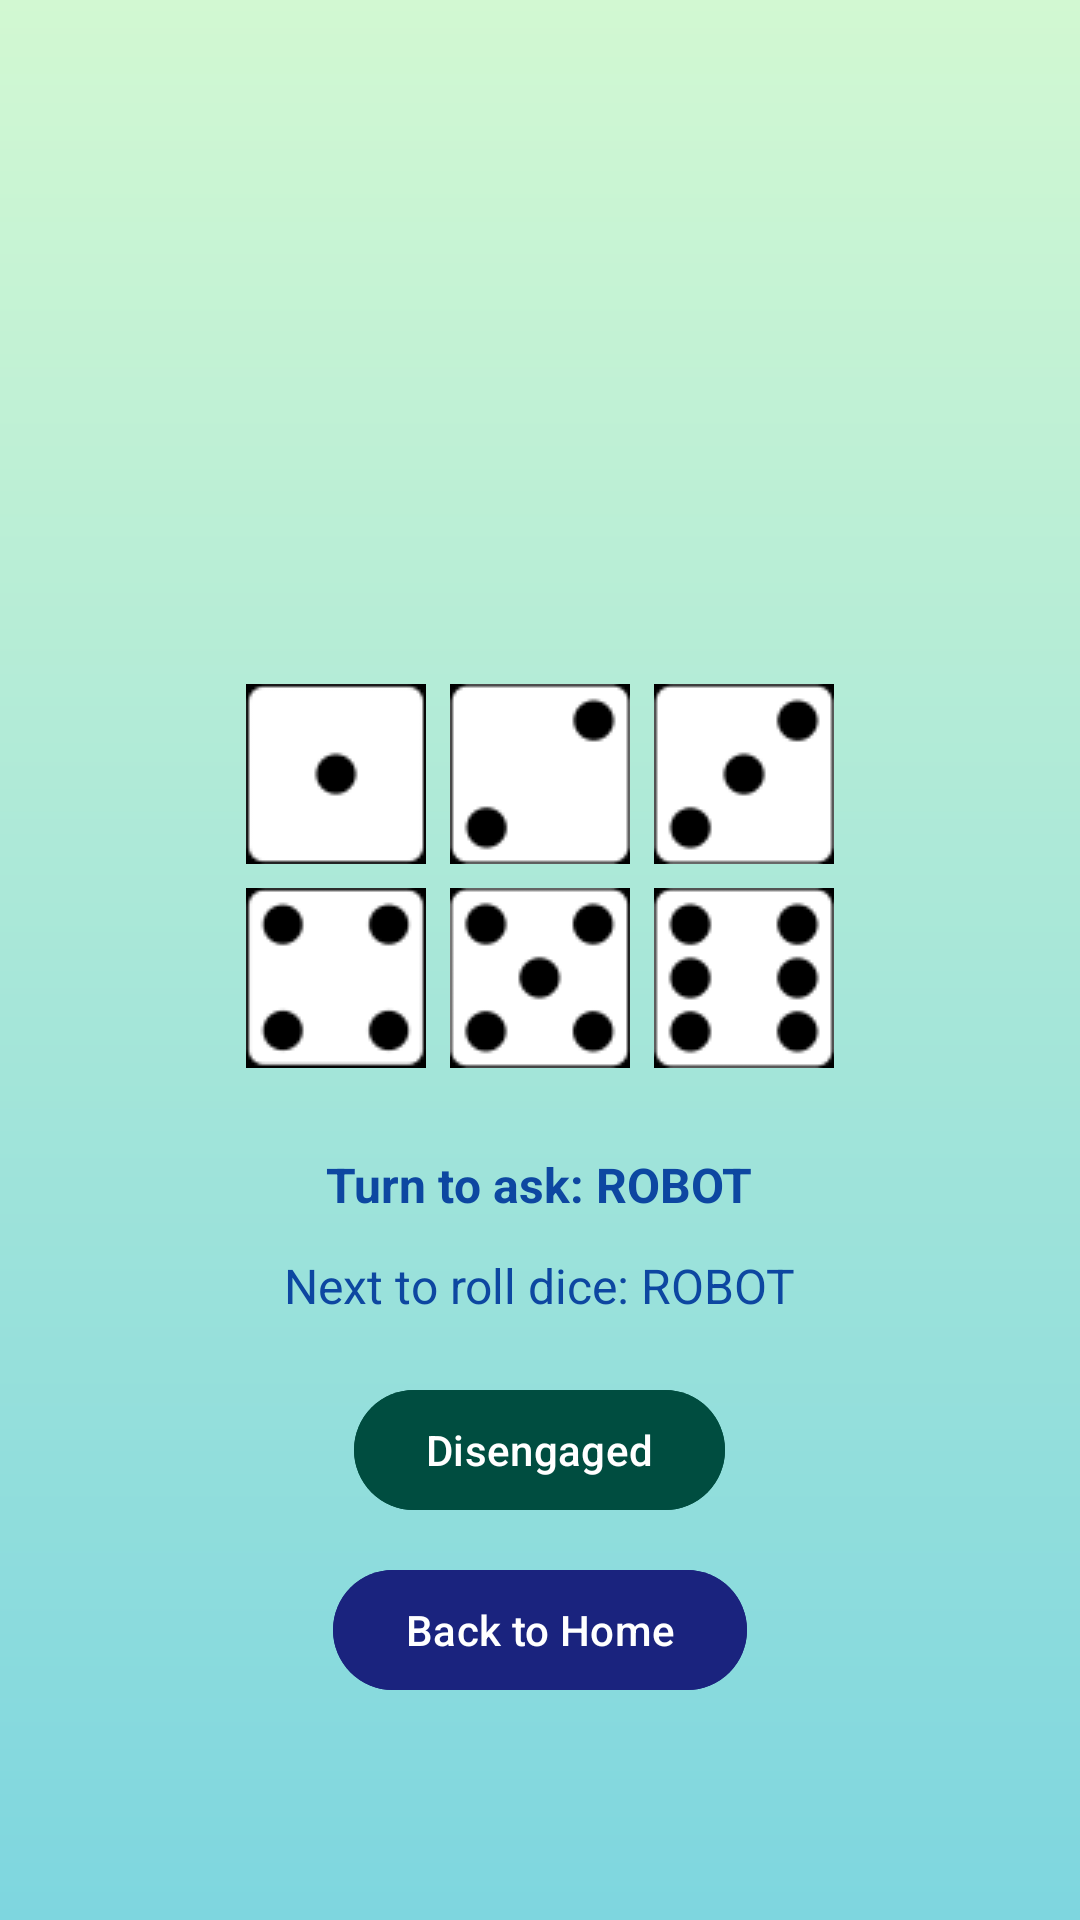

Icons on this 1080 x 1920 Android screen, each with its box as BBox(x1, y1, x2, y2):
dice: BBox(246, 684, 426, 864), BBox(450, 684, 630, 864), BBox(654, 684, 834, 864), BBox(246, 888, 426, 1068), BBox(450, 888, 630, 1068), BBox(654, 888, 834, 1068)
